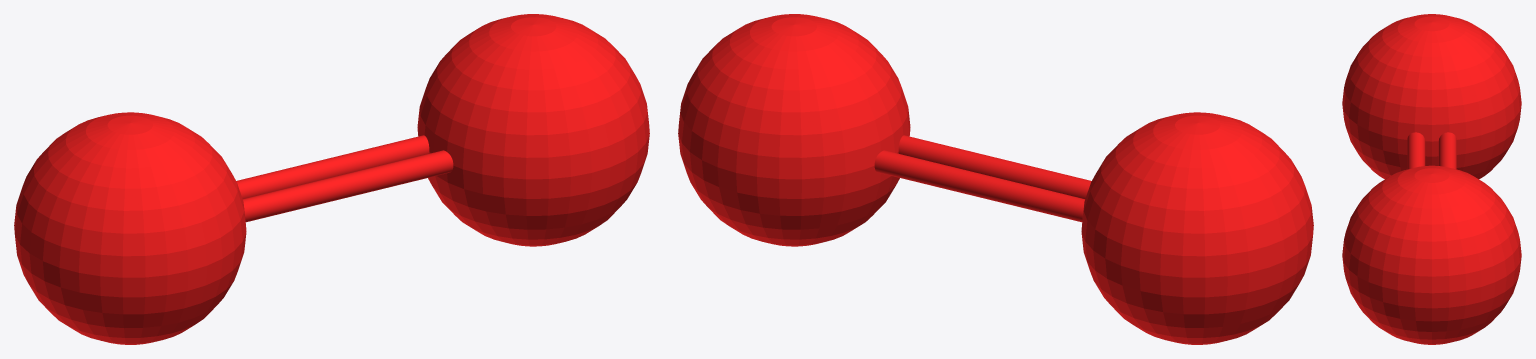
Rendered from oxygen.fbx.
3 views of the same model, side by side, from view 1: azimuth 30°, elevation 25°; view 2: azimuth 150°, elevation 25°; view 3: azimuth 270°, elevation 25° (orthographic). The views are drawn at different scales.
Visible parts, largest first — view 1: oxygen; view 2: oxygen; view 3: oxygen.
Part boxes in pixels (x1,y1,x2,y2): oxygen: (14,14,649,344); oxygen: (678,14,1313,344); oxygen: (1342,14,1521,344).
Size of the model in its own units: 108 by 36 by 36.
